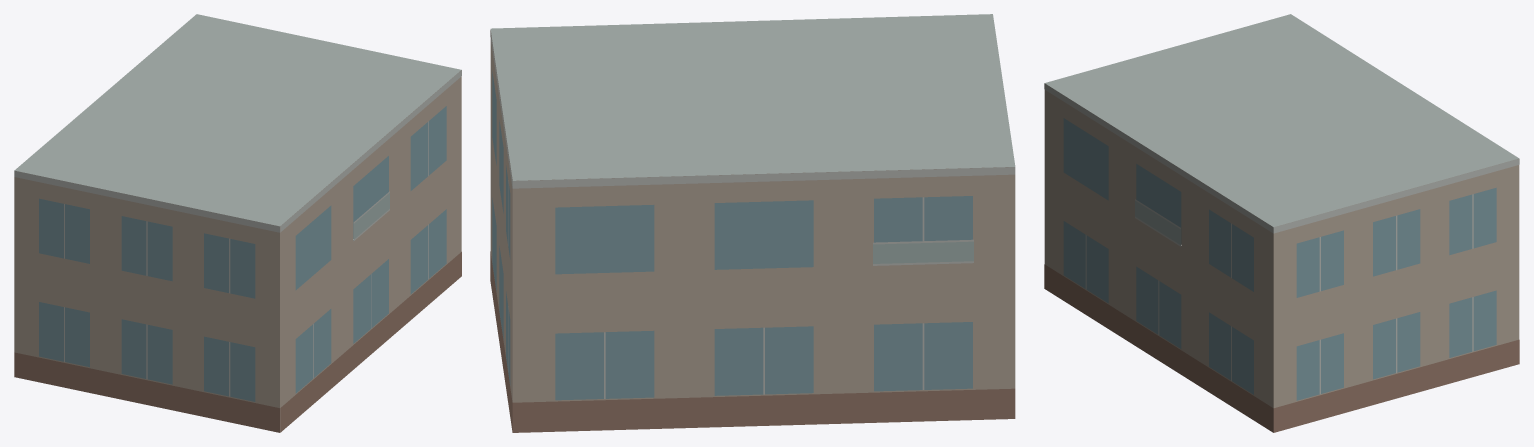
The model's file is survey-upis-33038380.glb.
3 views of the same model, side by side, from view 1: azimuth 30°, elevation 25°; view 2: azimuth 150°, elevation 25°; view 3: azimuth 270°, elevation 25° (orthographic). The views are drawn at different scales.
Parts seen in each view (by area): view 1: survey-upis-33038380.tmp; view 2: survey-upis-33038380.tmp; view 3: survey-upis-33038380.tmp.
Part boxes in pixels (bbox=[...]): survey-upis-33038380.tmp: bbox=[14, 14, 461, 432]; survey-upis-33038380.tmp: bbox=[490, 14, 1015, 432]; survey-upis-33038380.tmp: bbox=[1044, 14, 1519, 432].
Bounding box in the file's own units: 17.58 × 7.9 × 16.55.
